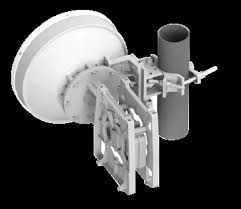ba: (10, 5, 111, 110)
